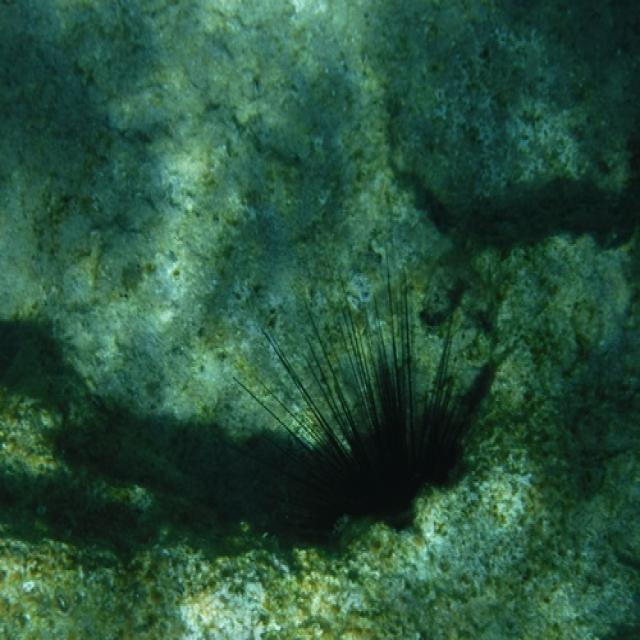Urchin: (230, 218, 502, 553)
